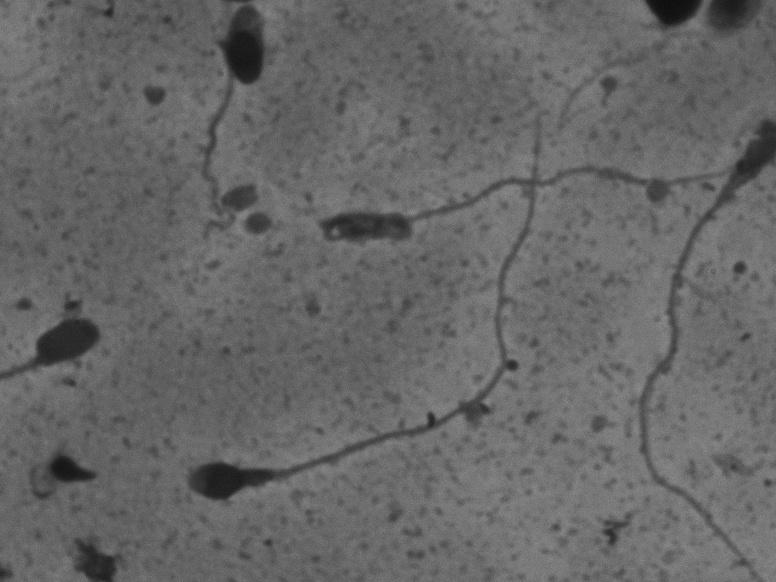Abnormal: (165, 111, 552, 513), (312, 141, 689, 276), (167, 6, 287, 250)
